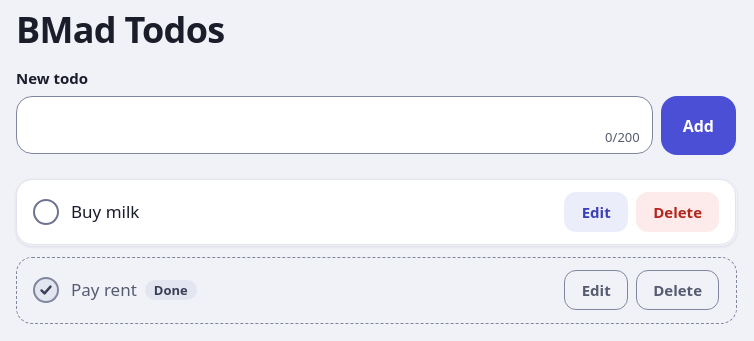
Scenario: Delete confirm › K4 Delete opens the confirm in place of Edit and Delete, focuses Cancel and sends nothing
The width and height of the screenshot is (754, 341).
Click the button with aria-label "Delete “Buy milk”": [678, 212] box 636,192 -> 719,232
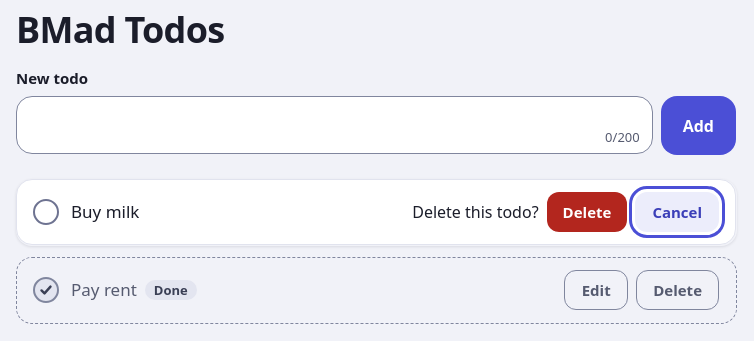
Expected: the button with aria-label "Edit “Pay rent”" is shown, 564,270 -> 628,310
Expected: the text "Delete this todo?" is shown, 412,200 -> 539,224
Expected: the buttons read "Delete", "Cancel", in this order, 547,192 -> 627,232; 635,192 -> 719,232
